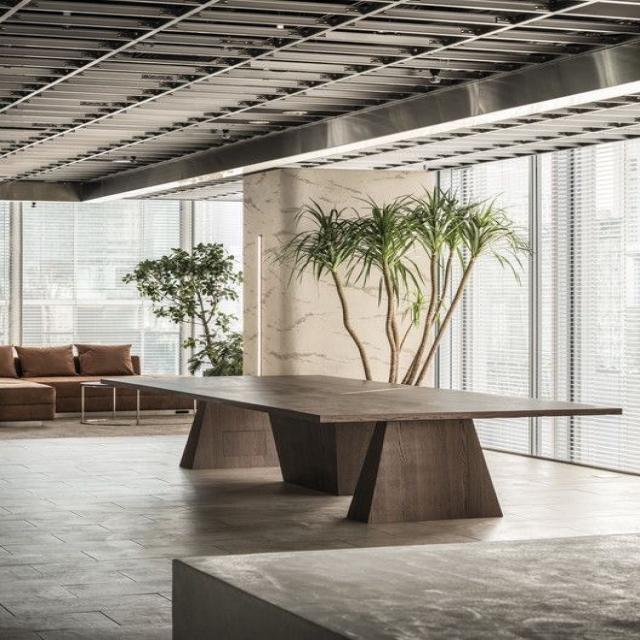table: (78, 284, 623, 564)
